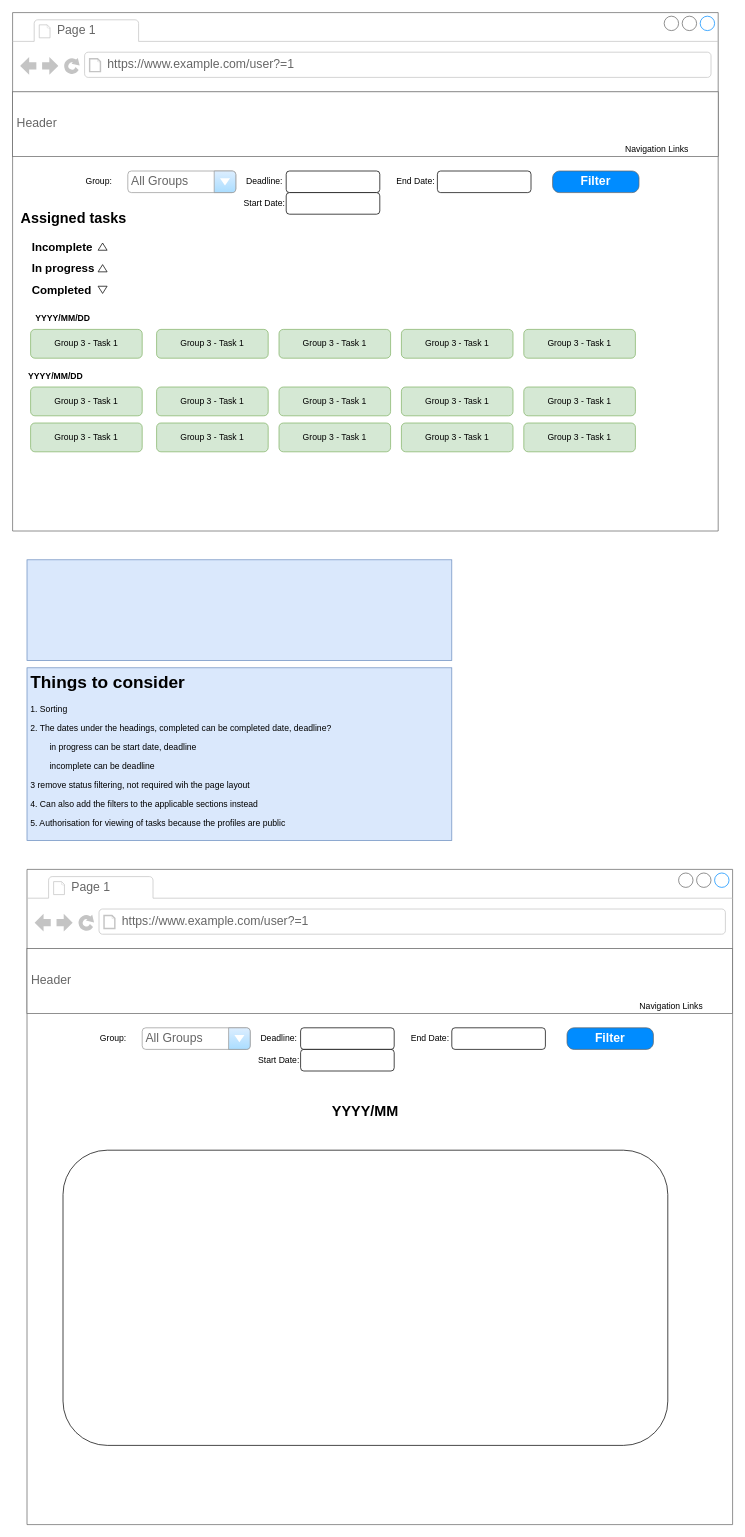
Some shapes in this 745 by 1537 pixel diagram are drawn without their labels. The centre of each missing label's shape, as x and y in pixels:
CALENDAR: the point at 365,1297
Clicking task Redirects to the task information page: the point at 239,610
